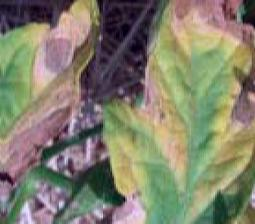Tomato Early blight leaf: (93, 0, 255, 224), (0, 0, 88, 213)
